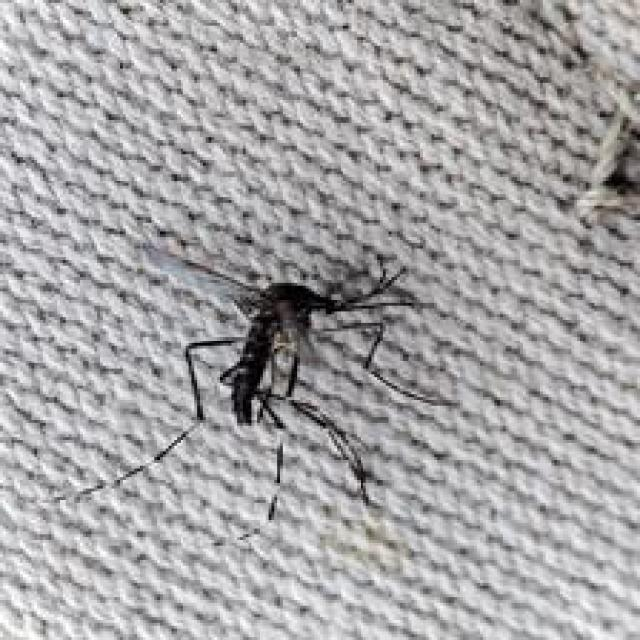Aedes albopictus: (56, 240, 461, 529)
